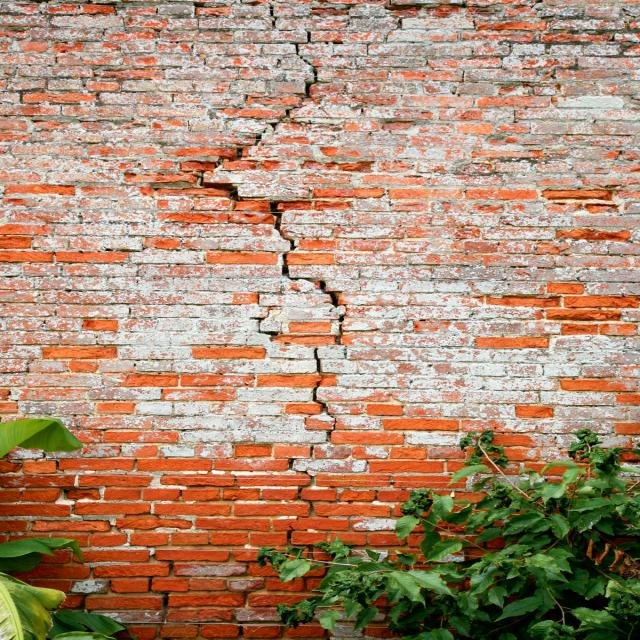Wall_Cracks: (62, 2, 476, 640)
